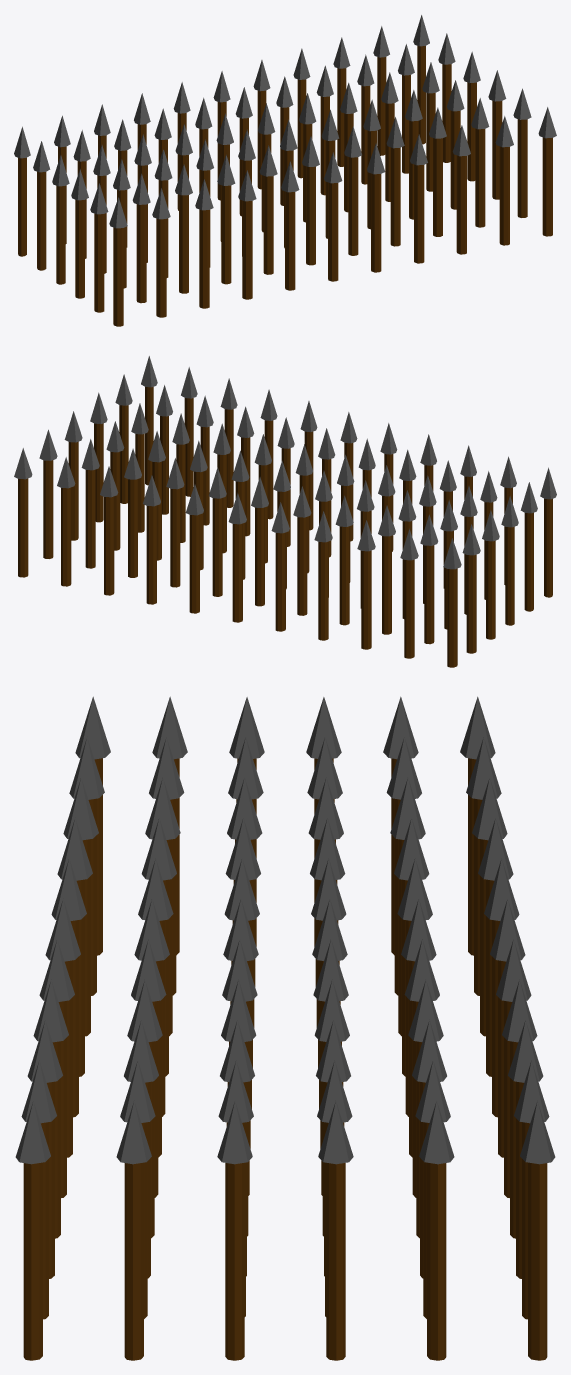
File: mızrak.fbx
3 renders of one model, top to bottom at view 1: azimuth 30°, elevation 25°; view 2: azimuth 150°, elevation 25°; view 3: azimuth 270°, elevation 25°, orthographic. The views are drawn at different scales.
Visible parts, largest first — view 1: Circle.001; view 2: Circle.001; view 3: Circle.001.
Boxes of the visible parts, x1=… form: Circle.001: x1=14, y1=15, x2=556, y2=326; Circle.001: x1=14, y1=356, x2=556, y2=667; Circle.001: x1=15, y1=696, x2=555, y2=1360.
Size of the model in its own units: 479 by 136 by 260.
